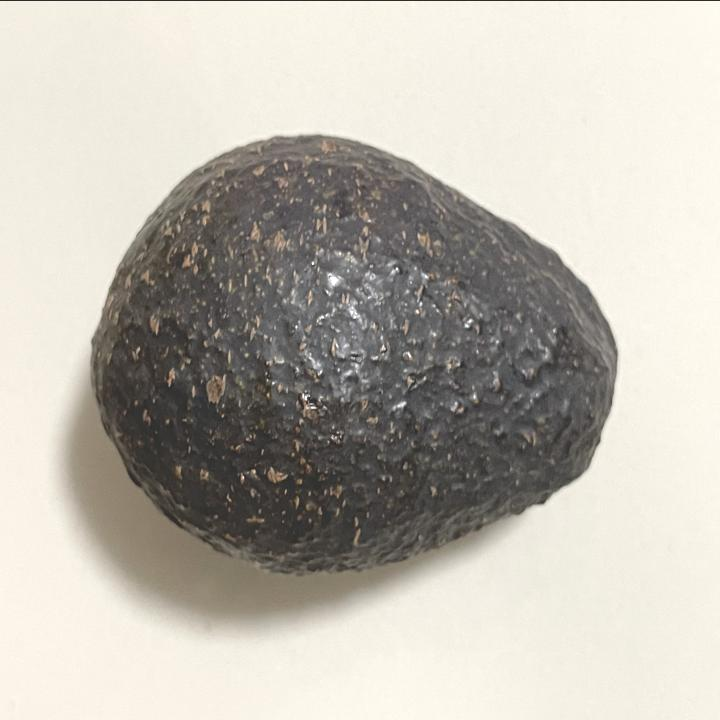Level2: (86, 118, 626, 586)
